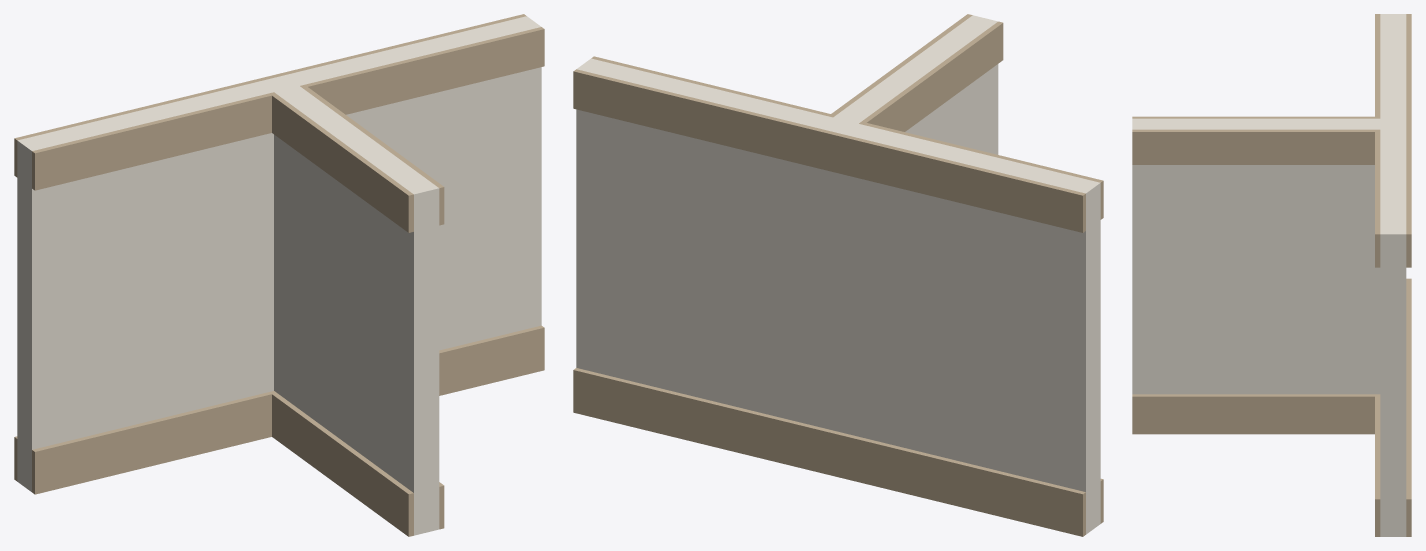
The model's file is partitionLowTee.glb.
The picture shows the model from 3 angles, left to right: view 1: azimuth 30°, elevation 25°; view 2: azimuth 150°, elevation 25°; view 3: azimuth 270°, elevation 25°; orthographic projection. The views are drawn at different scales.
Parts seen in each view (by area): view 1: partitionLowTee; view 2: partitionLowTee; view 3: partitionLowTee.
Part boxes in pixels (bbox=[...]): partitionLowTee: bbox=[14, 14, 544, 536]; partitionLowTee: bbox=[573, 14, 1103, 536]; partitionLowTee: bbox=[1132, 14, 1411, 536].
Bounding box in the file's own units: 1 × 0.64 × 0.535.
Materials: 1 (1 with a texture image).
